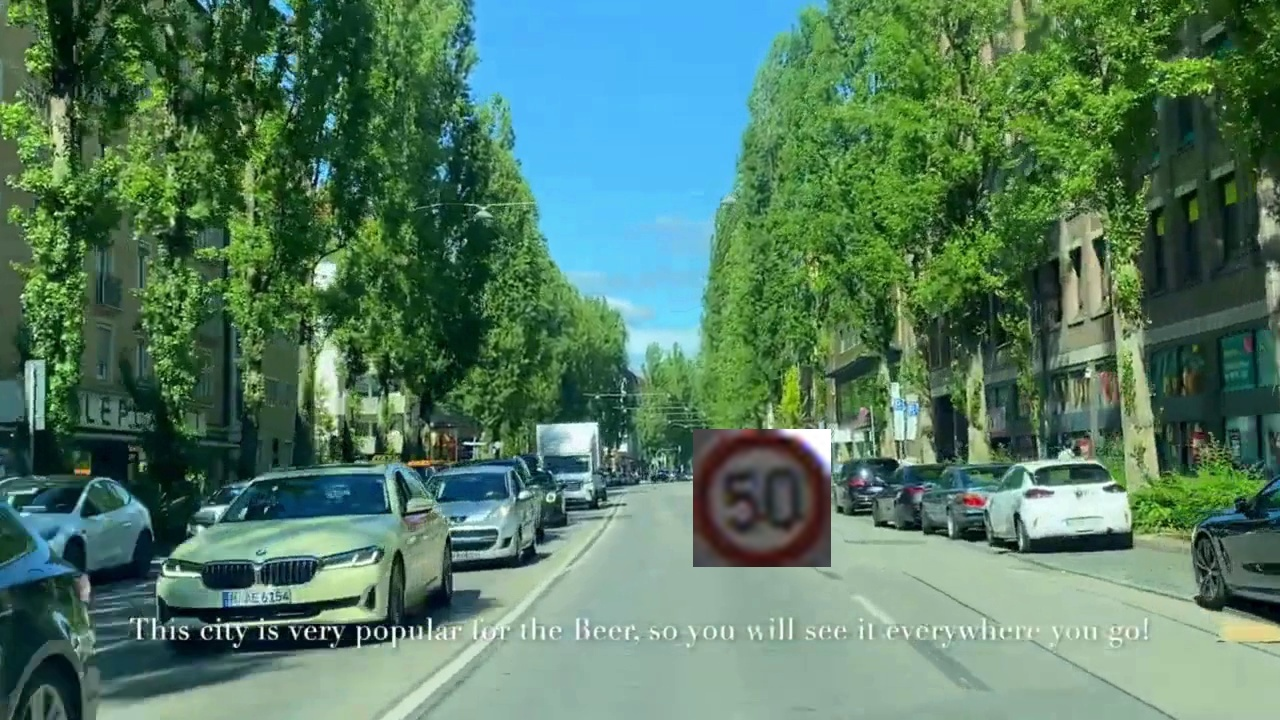Speed 50: (693, 429, 831, 567)
